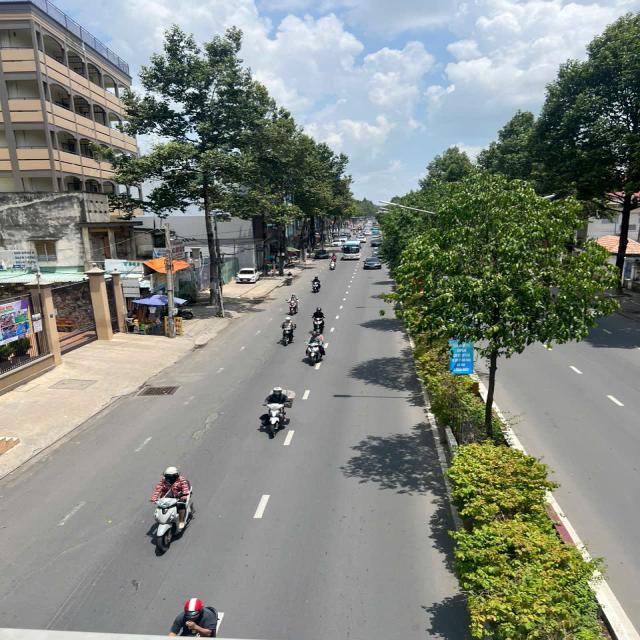car: (233, 265, 262, 285), (339, 240, 364, 260), (362, 256, 384, 271), (372, 247, 389, 261), (370, 236, 384, 248), (357, 233, 368, 244)
motobyte: (144, 466, 200, 553), (166, 595, 228, 640), (260, 385, 297, 439), (305, 328, 328, 365), (276, 315, 299, 346), (311, 306, 330, 337), (285, 292, 303, 315), (308, 273, 324, 294), (284, 271, 298, 287), (328, 254, 340, 272)
